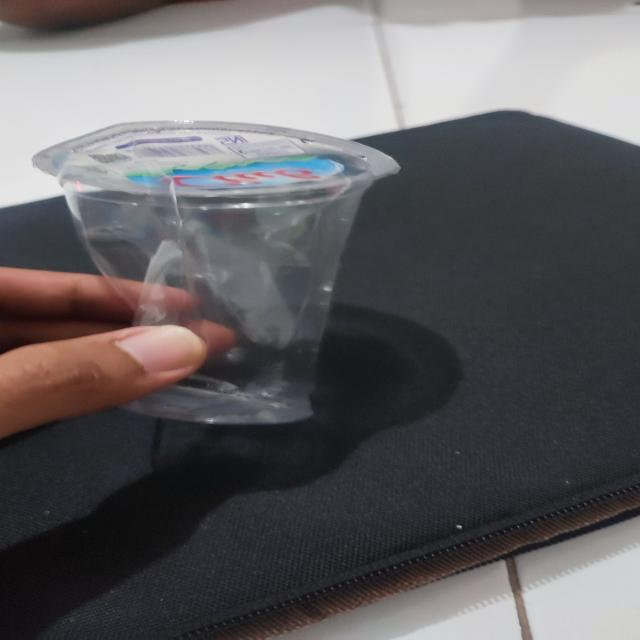air-gelas-rusak: (27, 116, 385, 436)
